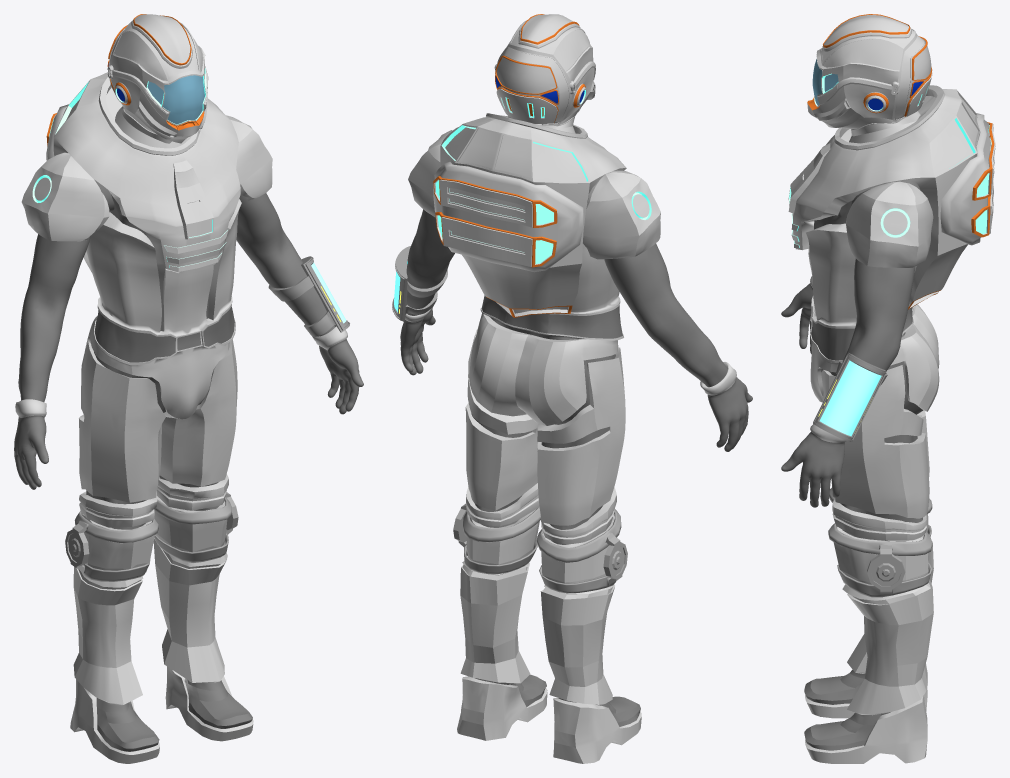
The model's file is SuitLowPoly.fbx.
The picture shows the model from 3 angles, left to right: view 1: azimuth 30°, elevation 25°; view 2: azimuth 150°, elevation 25°; view 3: azimuth 270°, elevation 25°; orthographic projection.
Parts seen in each view (by area): view 1: suit, arms.low, shoulderpads, Helmet, kneedetails, Gloves, helmetdetailtop, armtablet, Glass, backpackdetailfront; view 2: suit, arms.low, shoulderpads, backpackdetailsmall, backpackdetailbig, kneedetails, Helmet, Gloves, helmetdetailbackbig, armtablet, helmetdetailtop; view 3: suit, Helmet, shoulderpads, arms.low, Gloves, kneedetails, armtablet, backpackdetailbig, helmetdetailtop, backpackdetailsmall, helmetdetailbackbig, Glass.
Boxes of the visible parts, x1,y1,x2,y2 form: suit: (53,72,253,763); arms.low: (18,179,334,402); shoulderpads: (21,115,272,241); Helmet: (109,21,208,148); kneedetails: (65,492,238,581); Gloves: (14,326,363,489); helmetdetailtop: (131,14,192,68); armtablet: (268,256,349,336); Glass: (147,75,204,124); backpackdetailfront: (164,230,228,271); suit: (440,113,641,763); arms.low: (406,174,727,387); shoulderpads: (408,130,660,259); backpackdetailsmall: (433,176,557,267); backpackdetailbig: (433,162,583,272); kneedetails: (453,503,627,593); Helmet: (497,20,595,133); Gloves: (400,307,752,451); helmetdetailbackbig: (495,55,558,123); armtablet: (392,246,447,321); helmetdetailtop: (518,14,580,48); suit: (788,85,980,763); Helmet: (807,29,927,143); shoulderpads: (846,181,933,267); arms.low: (842,180,920,371); Gloves: (781,276,846,507); kneedetails: (828,488,932,597); armtablet: (813,352,887,441); backpackdetailbig: (940,113,990,245); helmetdetailtop: (822,14,911,51); backpackdetailsmall: (971,122,995,237); helmetdetailbackbig: (904,36,932,116); Glass: (812,59,838,105).
Bounding box in the file's own units: 101 × 202 × 55.07.
